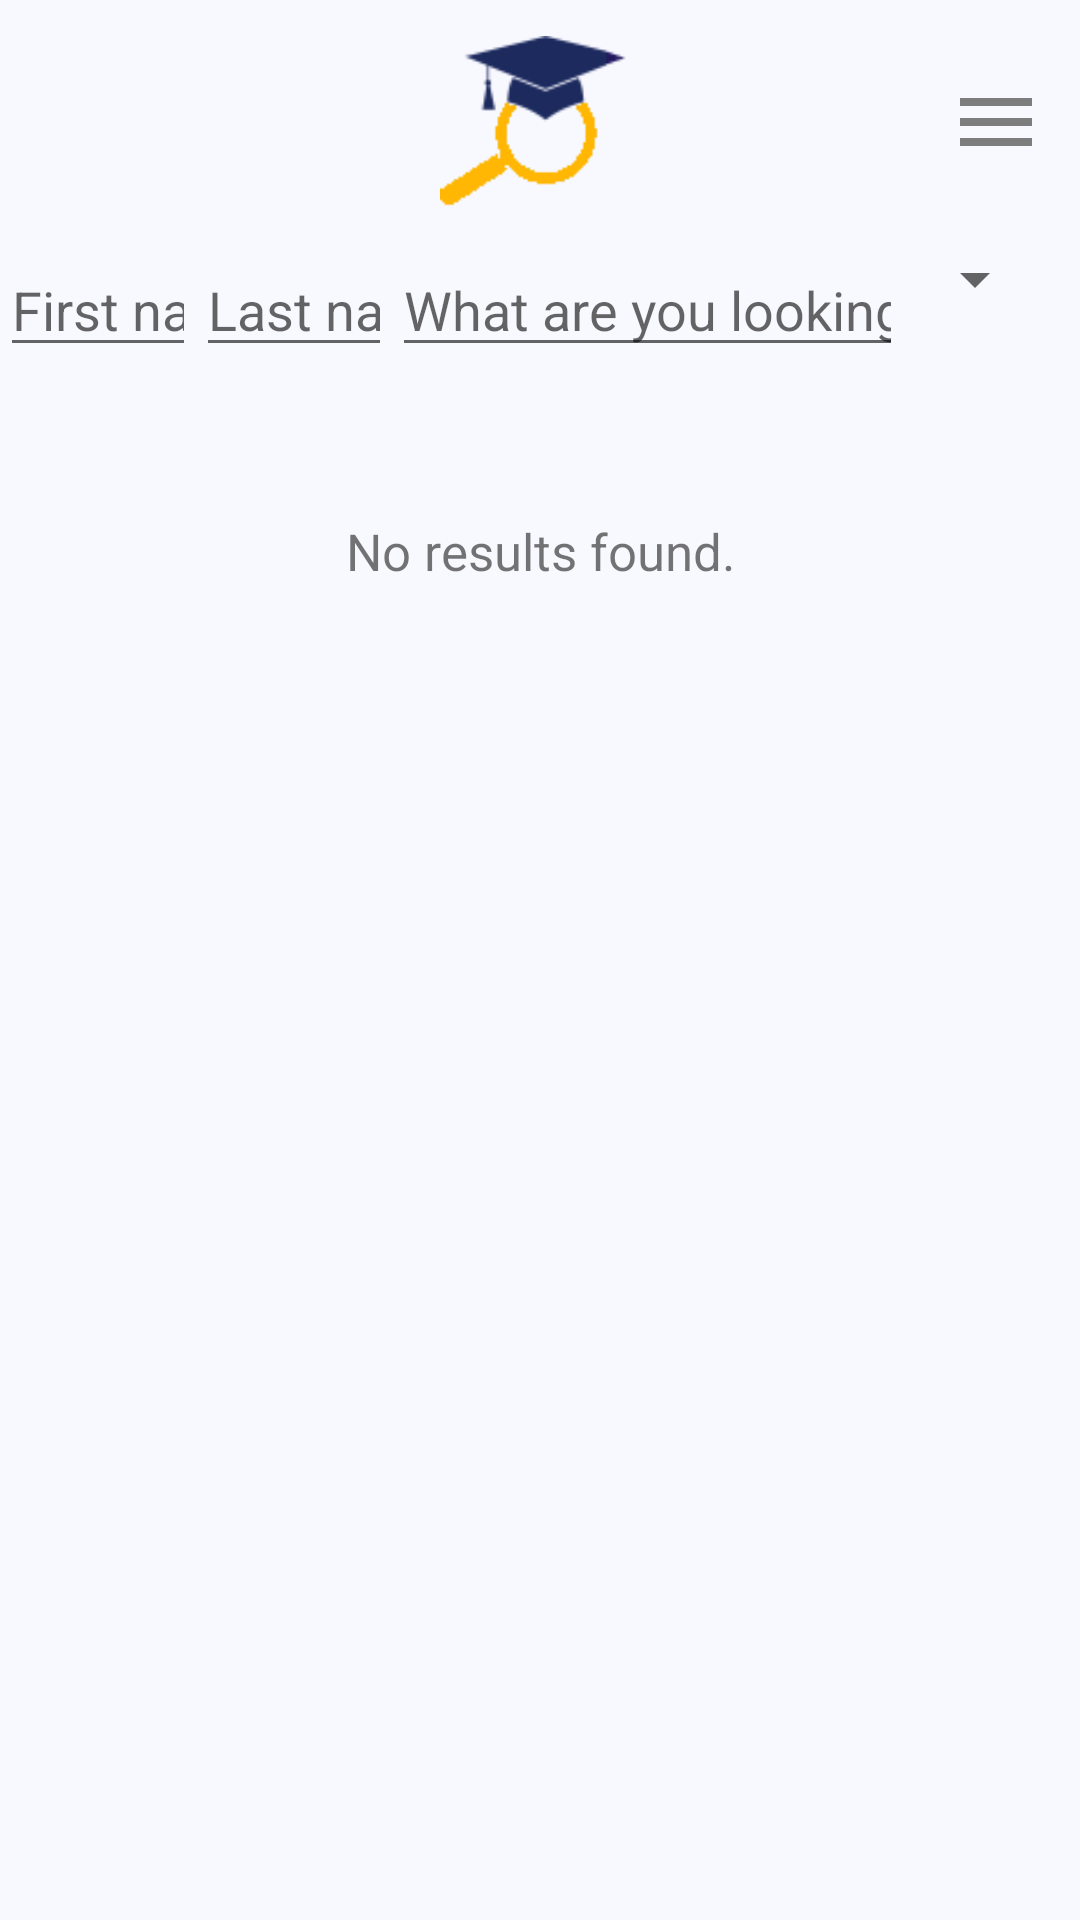

Named icons in this screenshot (1080 x 1920) and their bounding boxes, (x1, y1, x2, y2):
menu: (960, 98, 1032, 146)
tutor: (440, 36, 625, 206)
